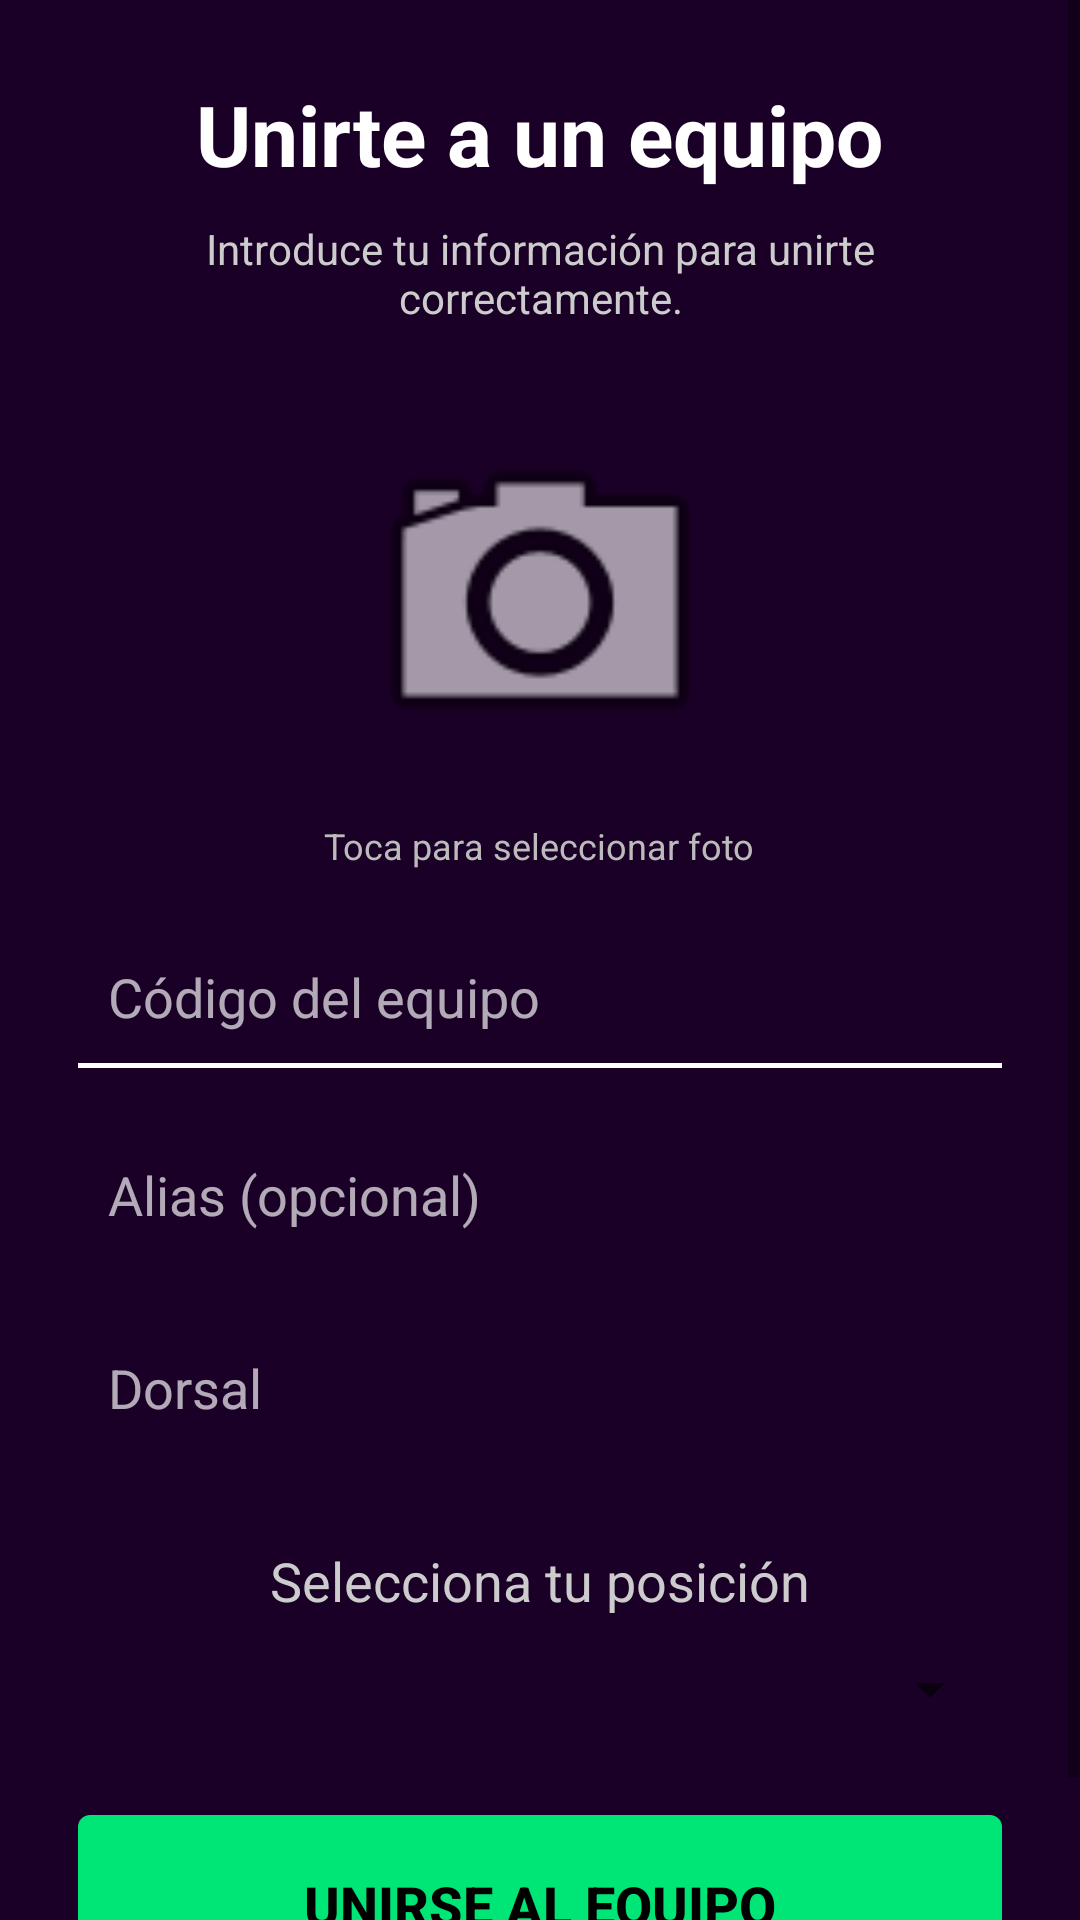

Icons on this 1080px×1920px Android screen, each with its box as (x1, y1, x2, y2):
camera: (401, 481, 679, 699)
